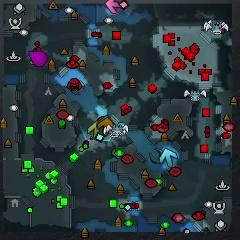p3: (29, 51, 48, 66)
x1: (105, 0, 122, 14)
x2: (89, 121, 98, 138)
x3: (159, 149, 178, 166)
x5: (98, 117, 117, 132)
